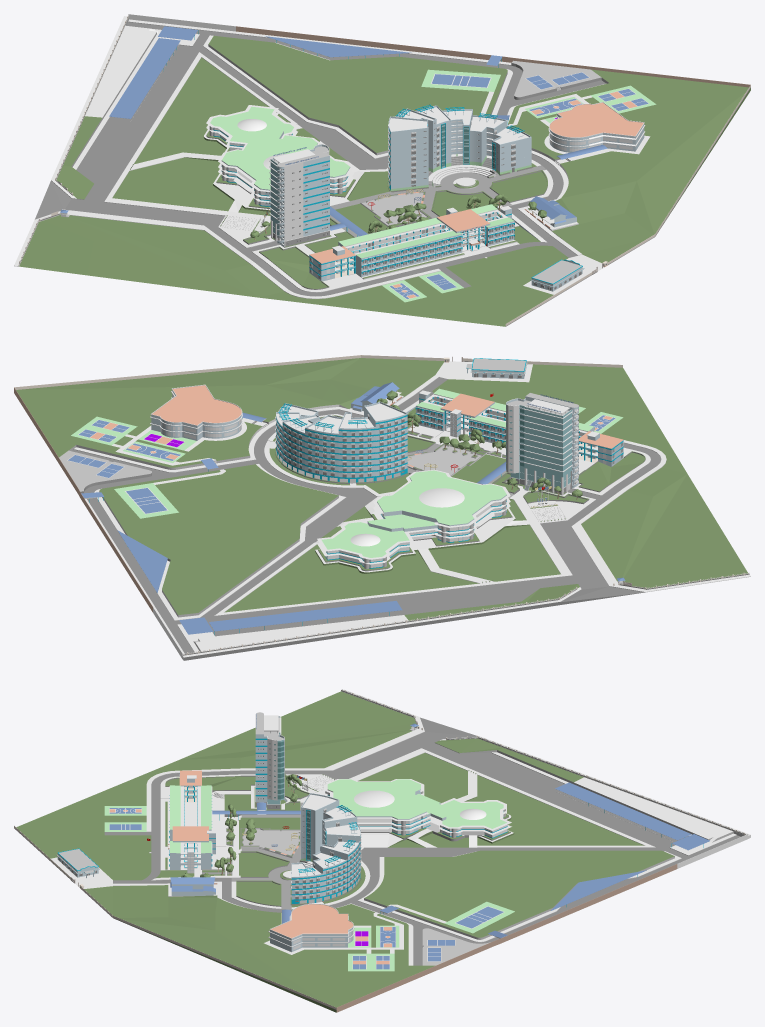
The model's file is map.glb.
3 renders of one model, top to bottom at view 1: azimuth 30°, elevation 25°; view 2: azimuth 150°, elevation 25°; view 3: azimuth 270°, elevation 25°, orthographic. The views are drawn at different scales.
Parts seen in each view (by area): view 1: map; view 2: map; view 3: map.
Part boxes in pixels (x1,y1,x2,y2): map: [14, 14, 750, 326]; map: [14, 355, 750, 660]; map: [14, 689, 750, 1012].
Bounding box in the file's own units: 16.34 × 1.82 × 15.76.
